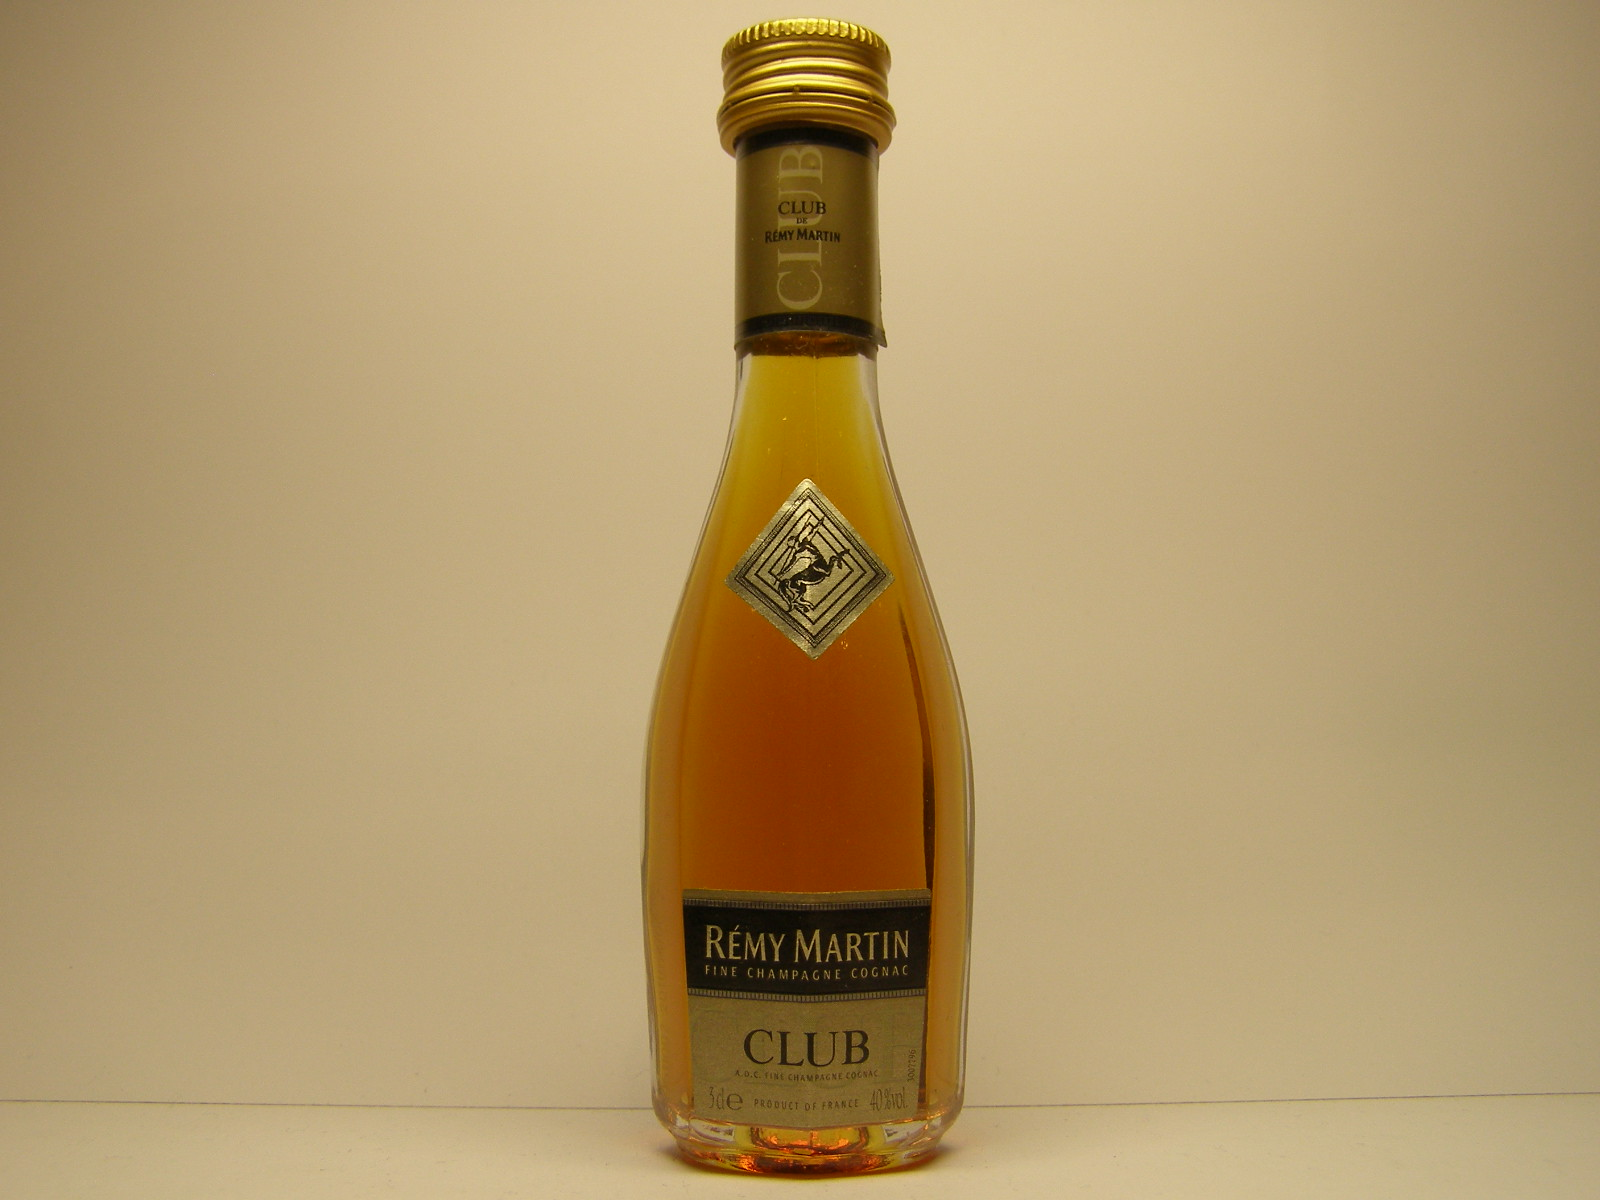Remy Martin: (607, 10, 1013, 1189)
